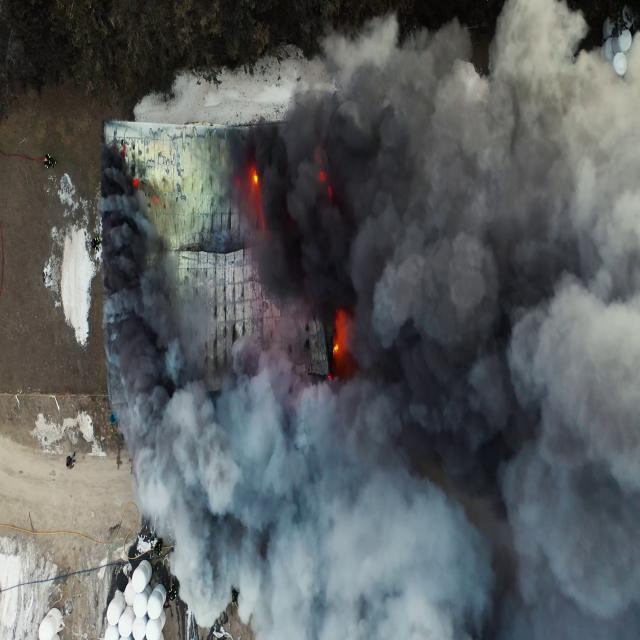Smoke: (131, 58, 640, 638)
